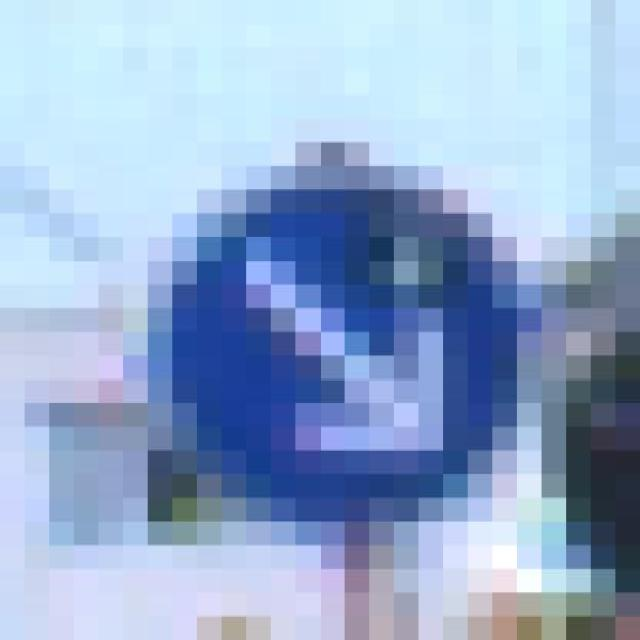Keep-Right: (148, 166, 542, 545)
